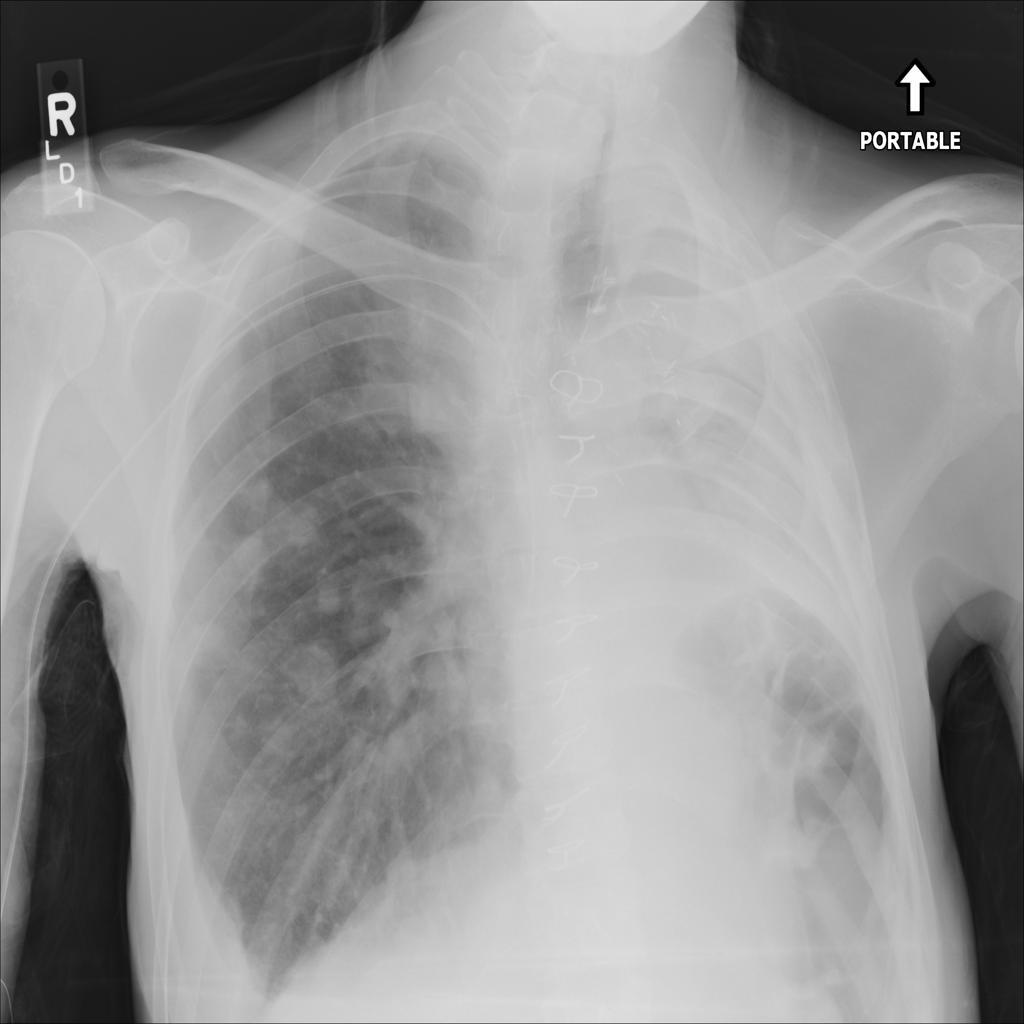nodule: (279, 626, 344, 714), (206, 519, 278, 596), (268, 486, 334, 564), (181, 608, 238, 658), (233, 460, 288, 508), (305, 568, 349, 624)
